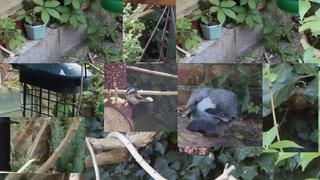long tailed tit: (122, 87, 154, 109)
wood pigeon: (185, 87, 239, 139)
